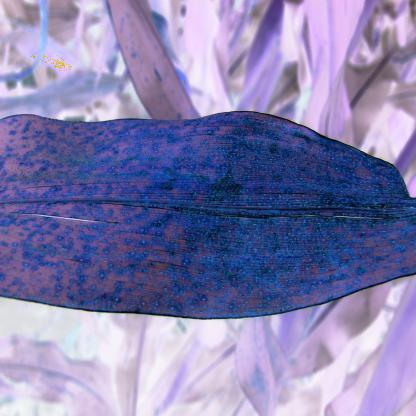corn rust leaf: (1, 112, 416, 324)
